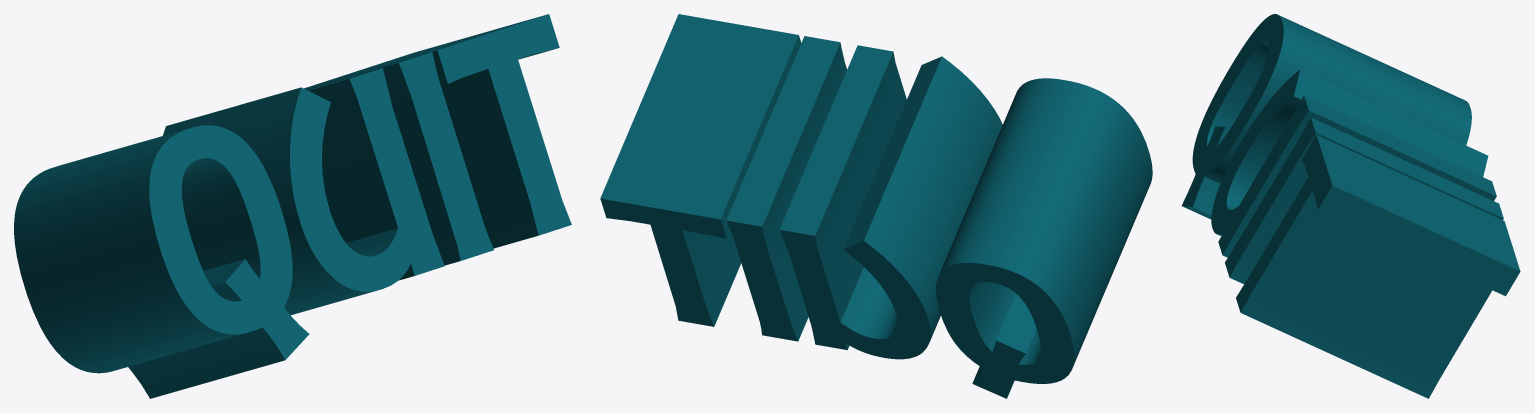
File: quit.dae
3 views of the same model, side by side, from view 1: azimuth 30°, elevation 25°; view 2: azimuth 150°, elevation 25°; view 3: azimuth 270°, elevation 25° (orthographic). The views are drawn at different scales.
Visible parts, largest first — view 1: QUIT; view 2: QUIT; view 3: QUIT.
Boxes of the visible parts, <box> form: QUIT: <box>14,14,571,398</box>; QUIT: <box>600,14,1152,398</box>; QUIT: <box>1181,14,1520,398</box>.
Size of the model in its own units: 122 by 76.74 by 87.77.
